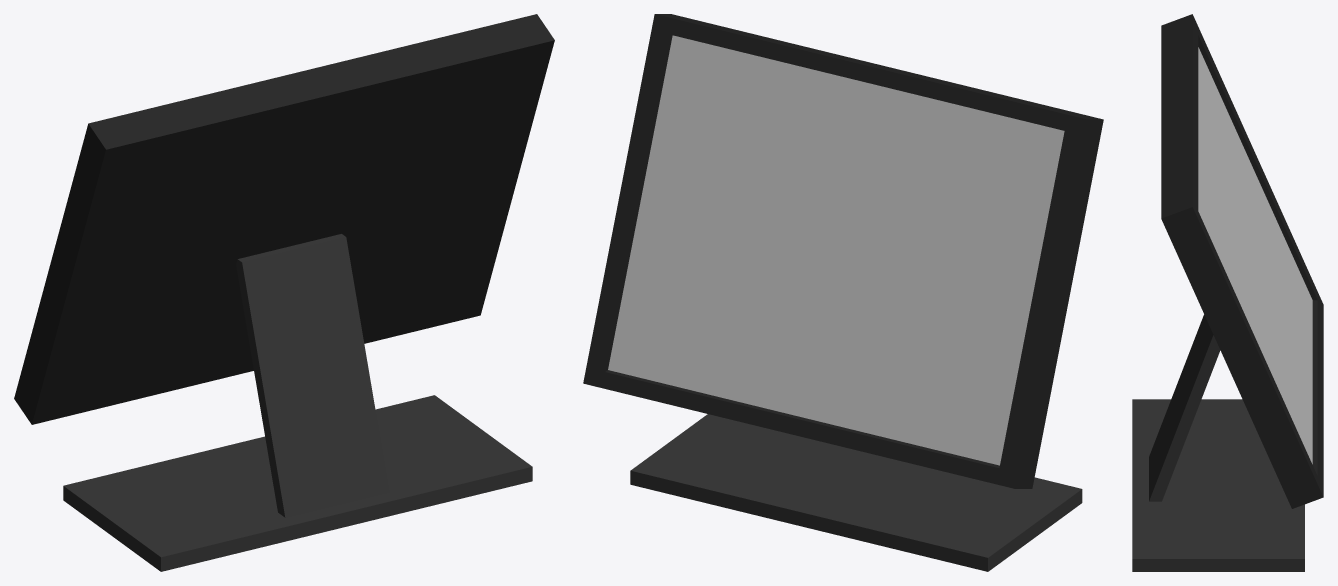
The model's file is prop_computer.fbx.
3 renders of one model, left to right at view 1: azimuth 30°, elevation 25°; view 2: azimuth 150°, elevation 25°; view 3: azimuth 270°, elevation 25°, orthographic. The views are drawn at different scales.
Parts seen in each view (by area): view 1: pCube10; view 2: pCube10; view 3: pCube10.
Boxes of the visible parts, <box> form: pCube10: <box>14,14,554,571</box>; pCube10: <box>583,14,1103,571</box>; pCube10: <box>1132,14,1323,571</box>.
Bounding box in the file's own units: 1.21 × 1.11 × 0.5053.
